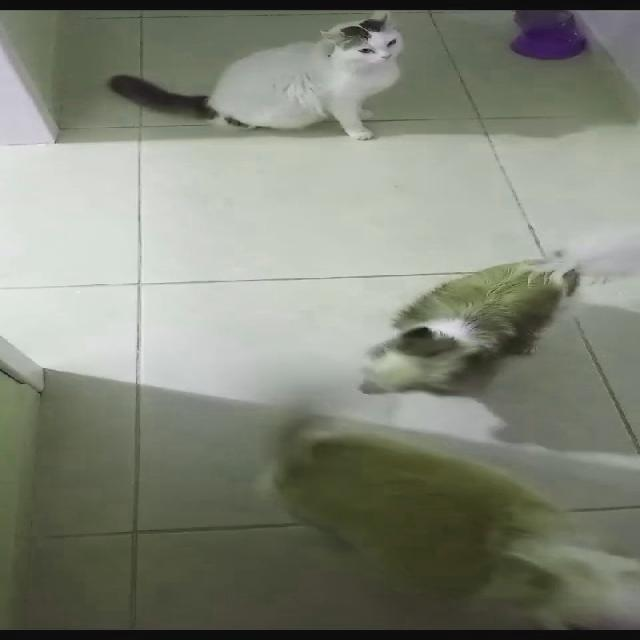Pedrita: (326, 250, 638, 394)
Theo: (169, 332, 639, 640)
